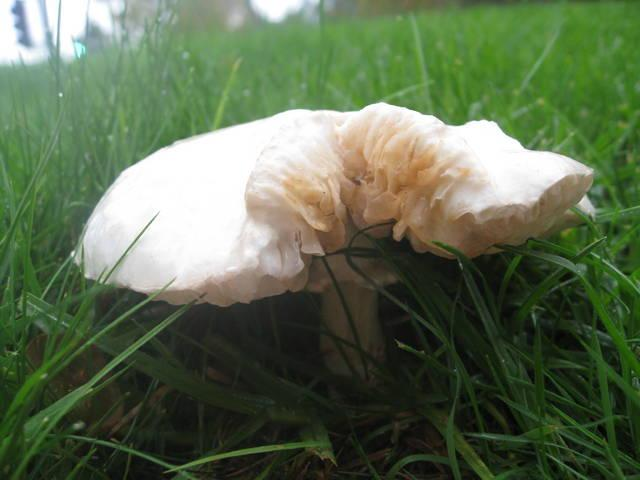poisonous_mushroom: (69, 100, 597, 387)
